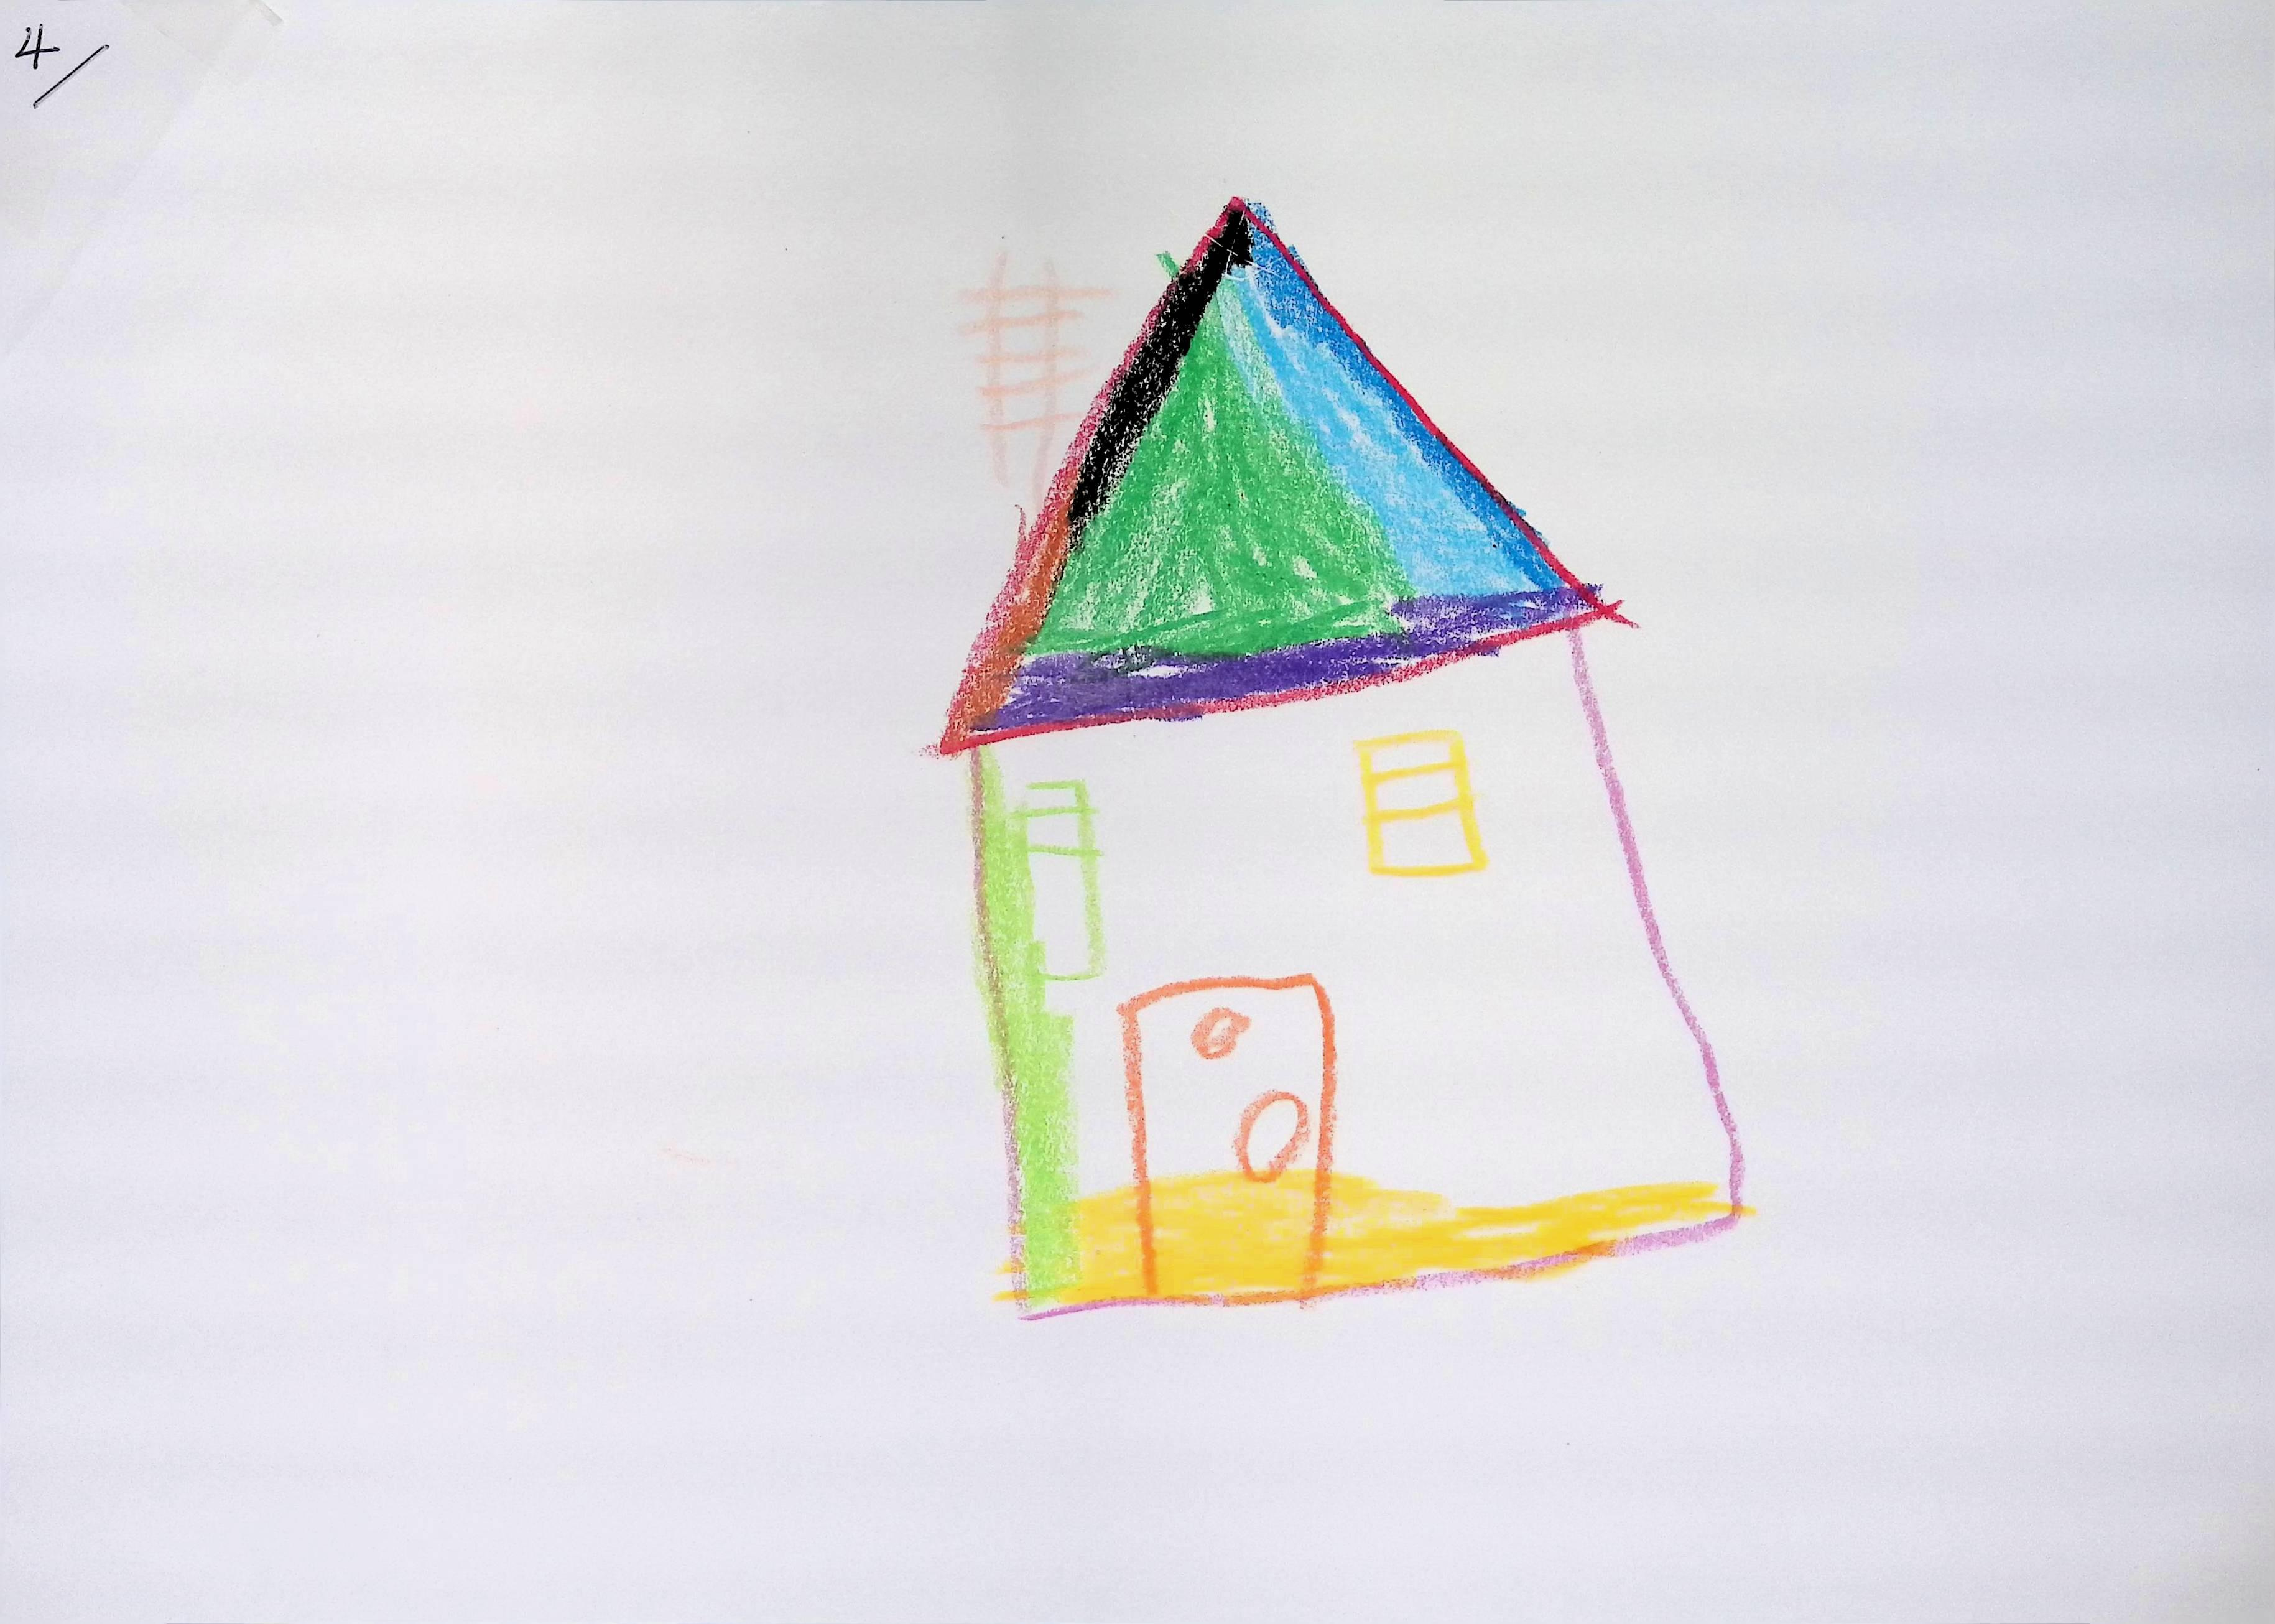chimney: (973, 248, 1063, 569)
door: (1119, 963, 1354, 1309)
house: (922, 192, 1748, 1316)
roof: (942, 195, 1621, 752)
wall: (970, 636, 1743, 1315)
window: (1356, 729, 1490, 875), (1012, 780, 1103, 979)
